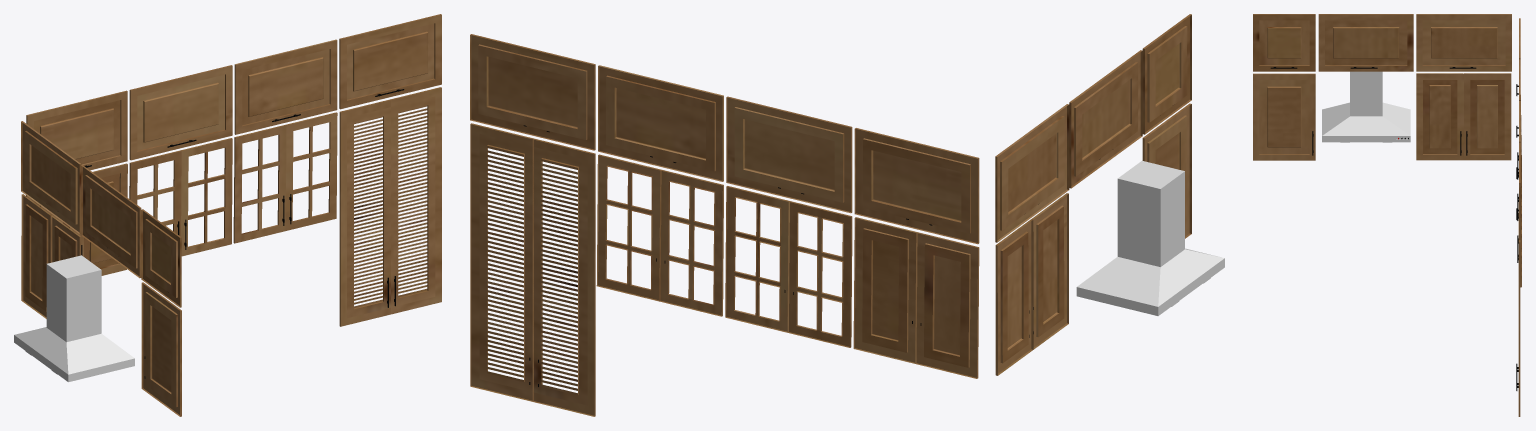
The model's file is cabinfrontv2.gltf.
The picture shows the model from 3 angles, left to right: view 1: azimuth 30°, elevation 25°; view 2: azimuth 150°, elevation 25°; view 3: azimuth 270°, elevation 25°; orthographic projection. The views are drawn at different scales.
Visible parts, largest first — view 1: 17; view 2: 17; view 3: 17.
Part boxes in pixels (x1,y1,x2,y2): 17: (14,14,441,416); 17: (470,14,1224,416); 17: (1253,14,1521,416).
Bounding box in the file's own units: 14.17 × 7.87 × 8.2.
Materials: 1 (1 with a texture image).
